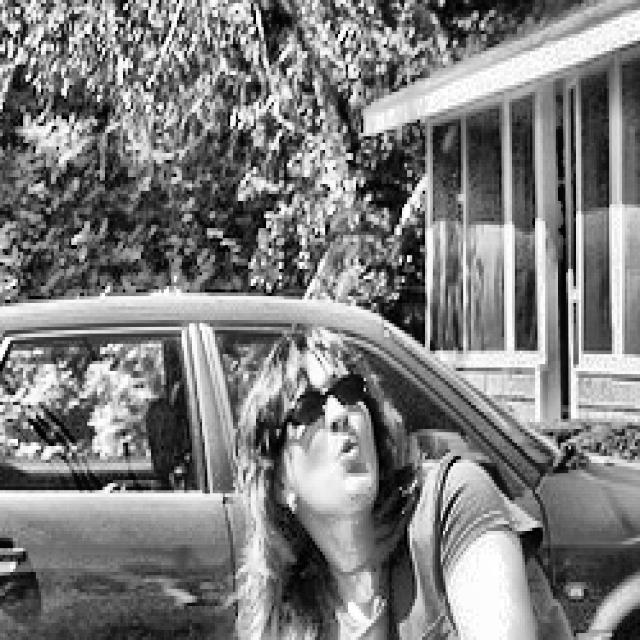light_vehicle: (0, 286, 640, 640)
